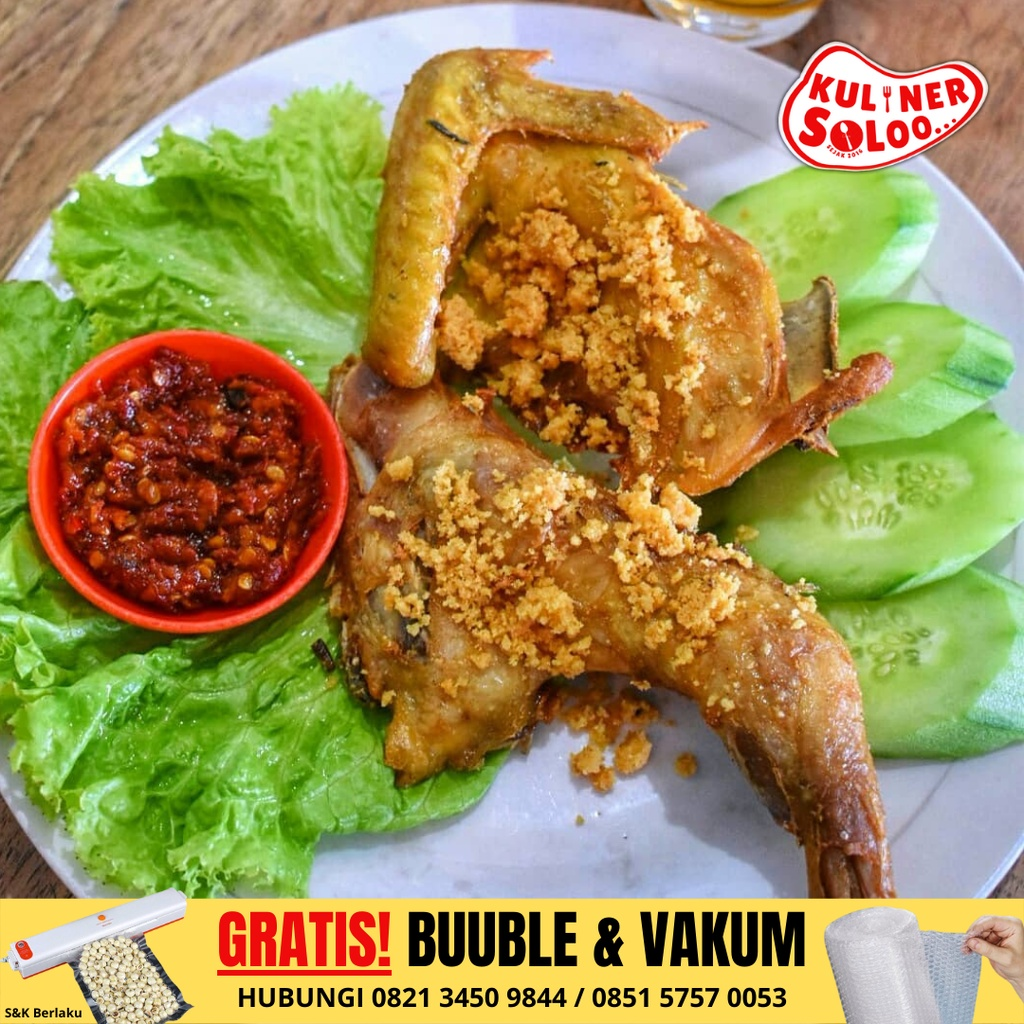Ayam: (308, 347, 811, 928), (312, 92, 866, 465)
